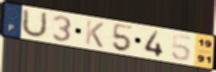3: (51, 14, 73, 43)
4: (143, 29, 165, 59)
5: (111, 22, 134, 53), (171, 32, 193, 61)
K: (84, 18, 105, 49)
U: (20, 7, 49, 39)
